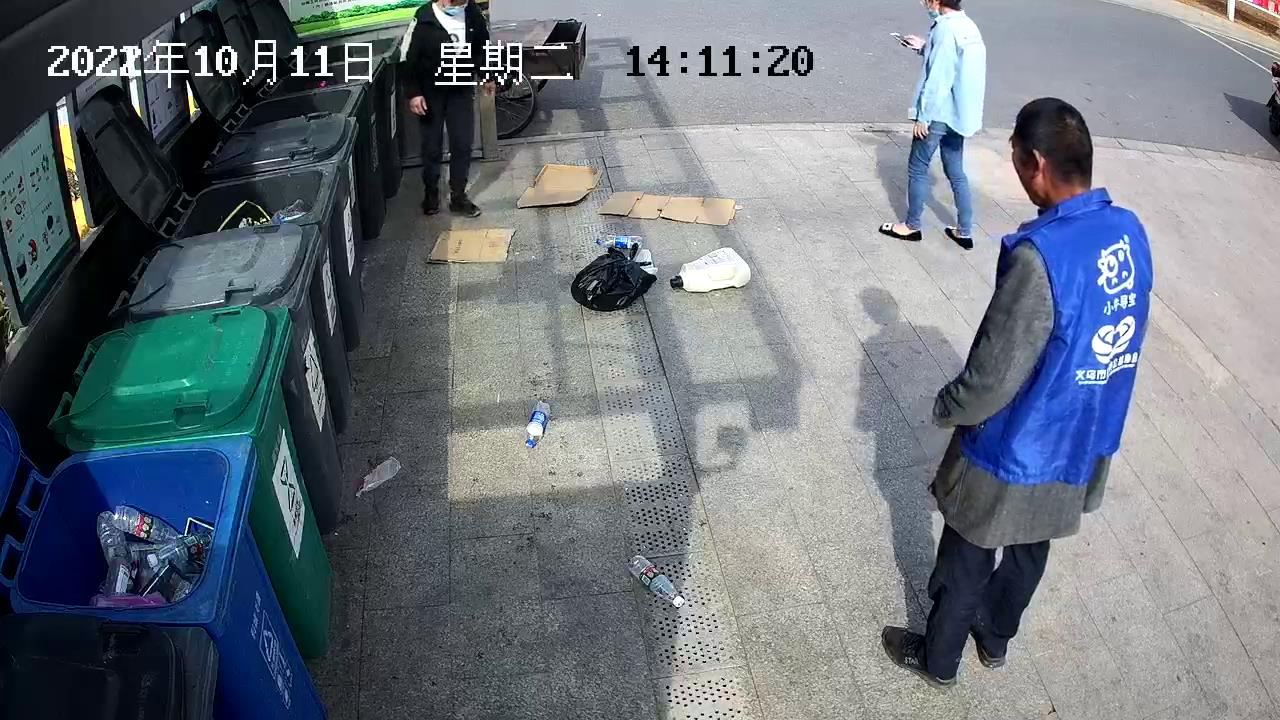garbage-bag: (568, 240, 658, 314)
person: (398, 1, 492, 220)
suliaozhipin: (669, 245, 751, 295), (625, 552, 685, 611), (352, 456, 402, 498), (523, 399, 551, 449), (593, 230, 645, 251)
worker: (877, 95, 1155, 695), (877, 1, 991, 251)
zhizhipin: (596, 187, 738, 227), (513, 161, 605, 208), (424, 225, 518, 266)
